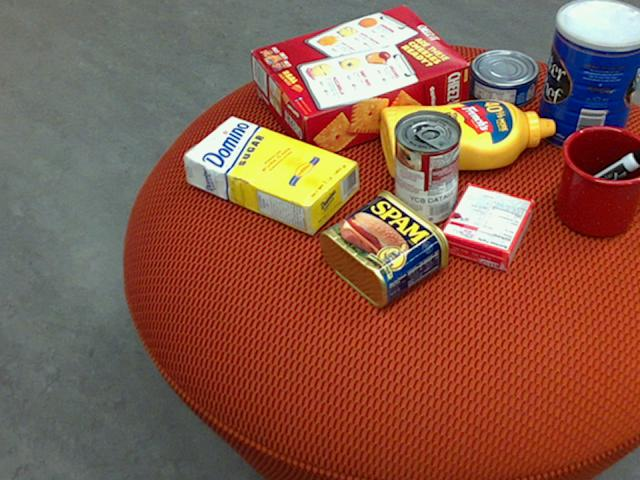cracker_box: (250, 4, 468, 160)
gelatin_box: (439, 184, 535, 272)
large_marker: (558, 145, 639, 209)
master_chef_can: (535, 0, 639, 153)
mug: (556, 124, 639, 237)
mustard_bottle: (379, 100, 554, 177)
potted_meat_can: (318, 189, 448, 306)
sugar_box: (181, 114, 357, 235)
tomato_soup_can: (392, 108, 460, 224)
tuna_fish_can: (466, 49, 537, 107)
